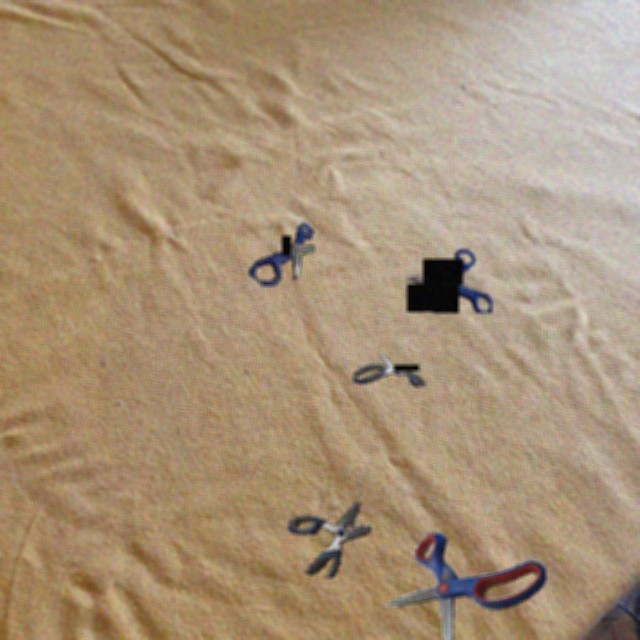scissors: (387, 532, 546, 640), (288, 502, 371, 578), (407, 248, 492, 313), (249, 222, 315, 286), (353, 353, 426, 387)
